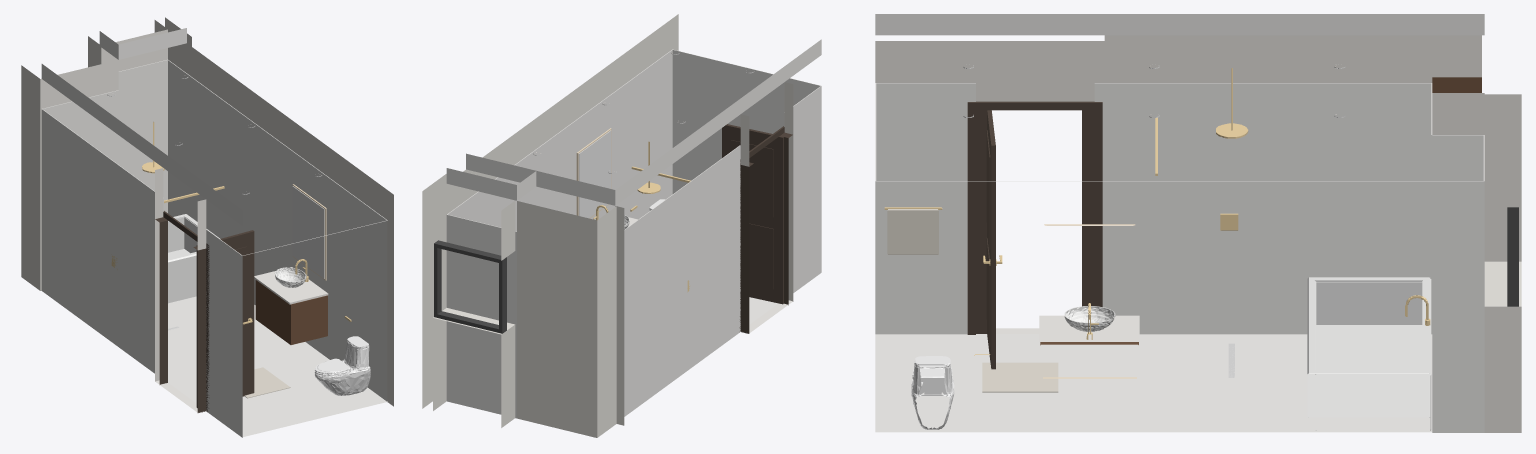
Rendered from BATH1.glb.
3 renders of one model, left to right at view 1: azimuth 30°, elevation 25°; view 2: azimuth 150°, elevation 25°; view 3: azimuth 270°, elevation 25°, orthographic. The views are drawn at different scales.
Parts seen in each view (by area): view 1: WEB_BATH1; view 2: WEB_BATH1; view 3: WEB_BATH1.
Part boxes in pixels (bbox=[...]): WEB_BATH1: bbox=[21, 17, 393, 437]; WEB_BATH1: bbox=[422, 14, 821, 437]; WEB_BATH1: bbox=[875, 14, 1521, 432].
Bounding box in the file's own units: 2.27 × 3 × 5.72.
